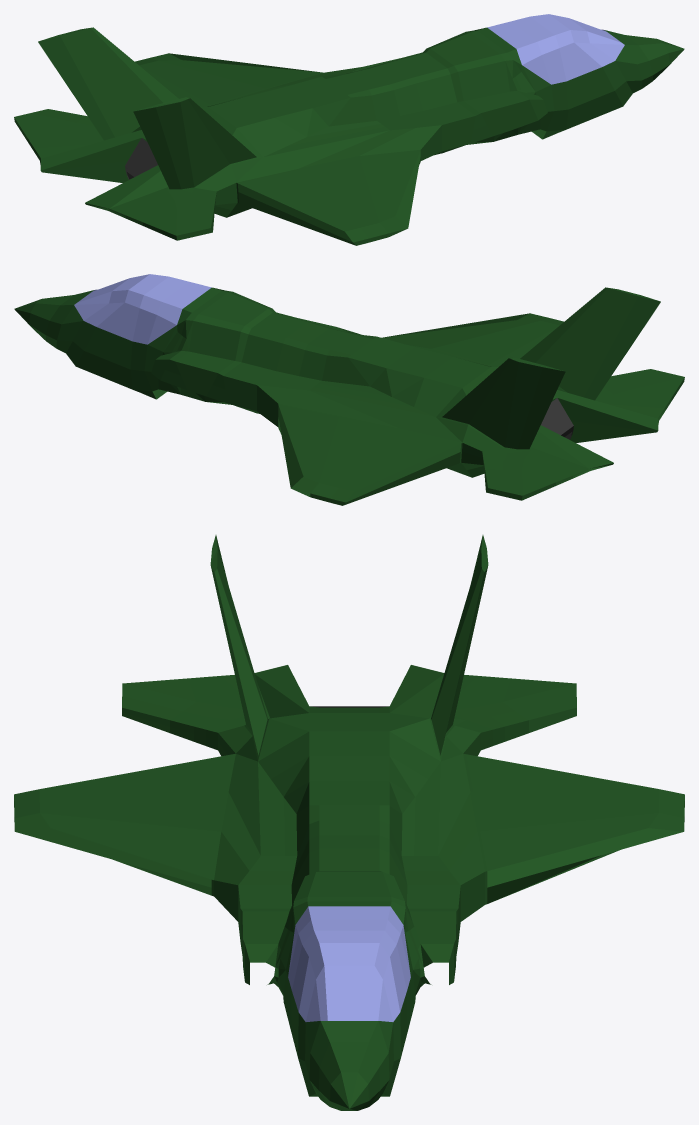
File: Jet.fbx
The picture shows the model from 3 angles, top to bottom: view 1: azimuth 30°, elevation 25°; view 2: azimuth 150°, elevation 25°; view 3: azimuth 270°, elevation 25°; orthographic projection. The views are drawn at different scales.
Parts seen in each view (by area): view 1: Jet; view 2: Jet; view 3: Jet.
Boxes of the visible parts, x1,y1,x2,y2 form: Jet: (14,14,684,245); Jet: (14,274,684,505); Jet: (14,535,684,1110).
Bounding box in the file's own units: 1153 × 279 × 770.
